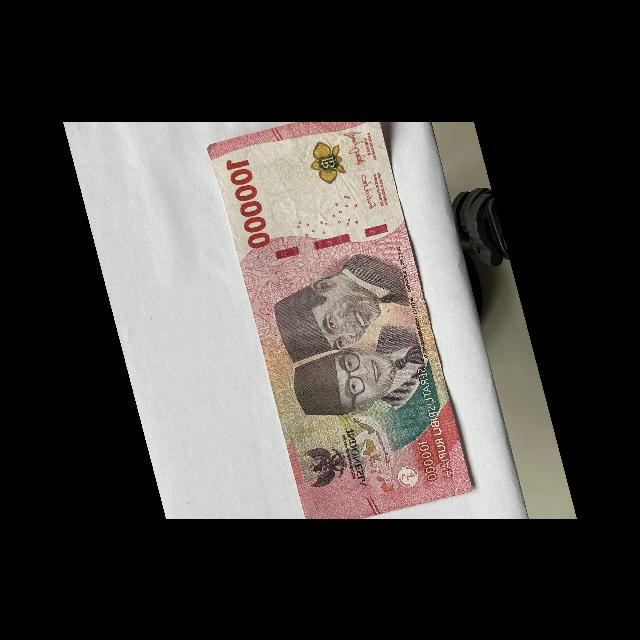Palsu-100k: (202, 99, 479, 535)
Tinta-Palsu-100k: (303, 135, 349, 188)
